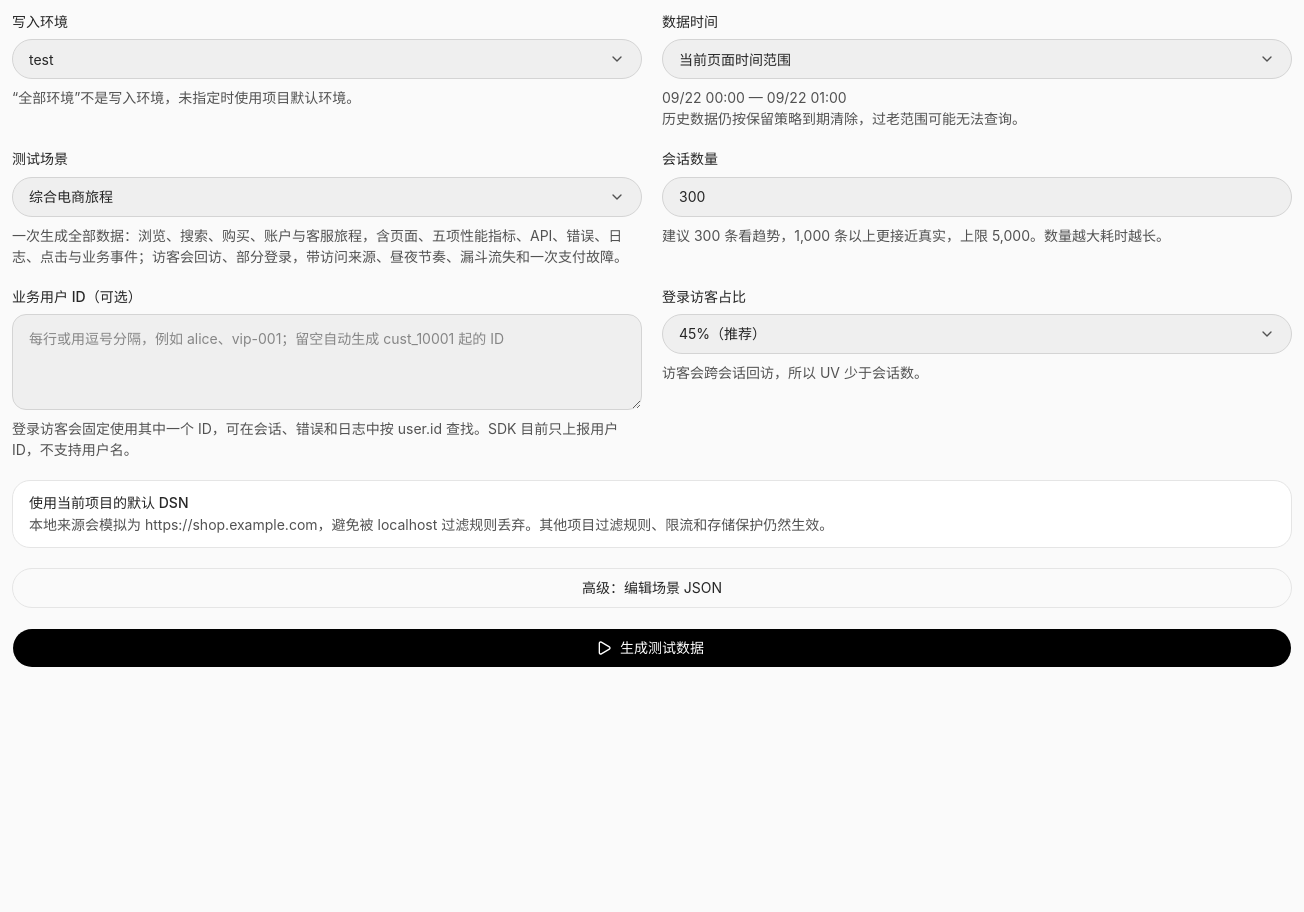
development generator › shows the real failure instead of hiding it behind a generic message
Click the button "生成测试数据". click: coordinates (652, 648)
box: 12,628 -> 1292,668
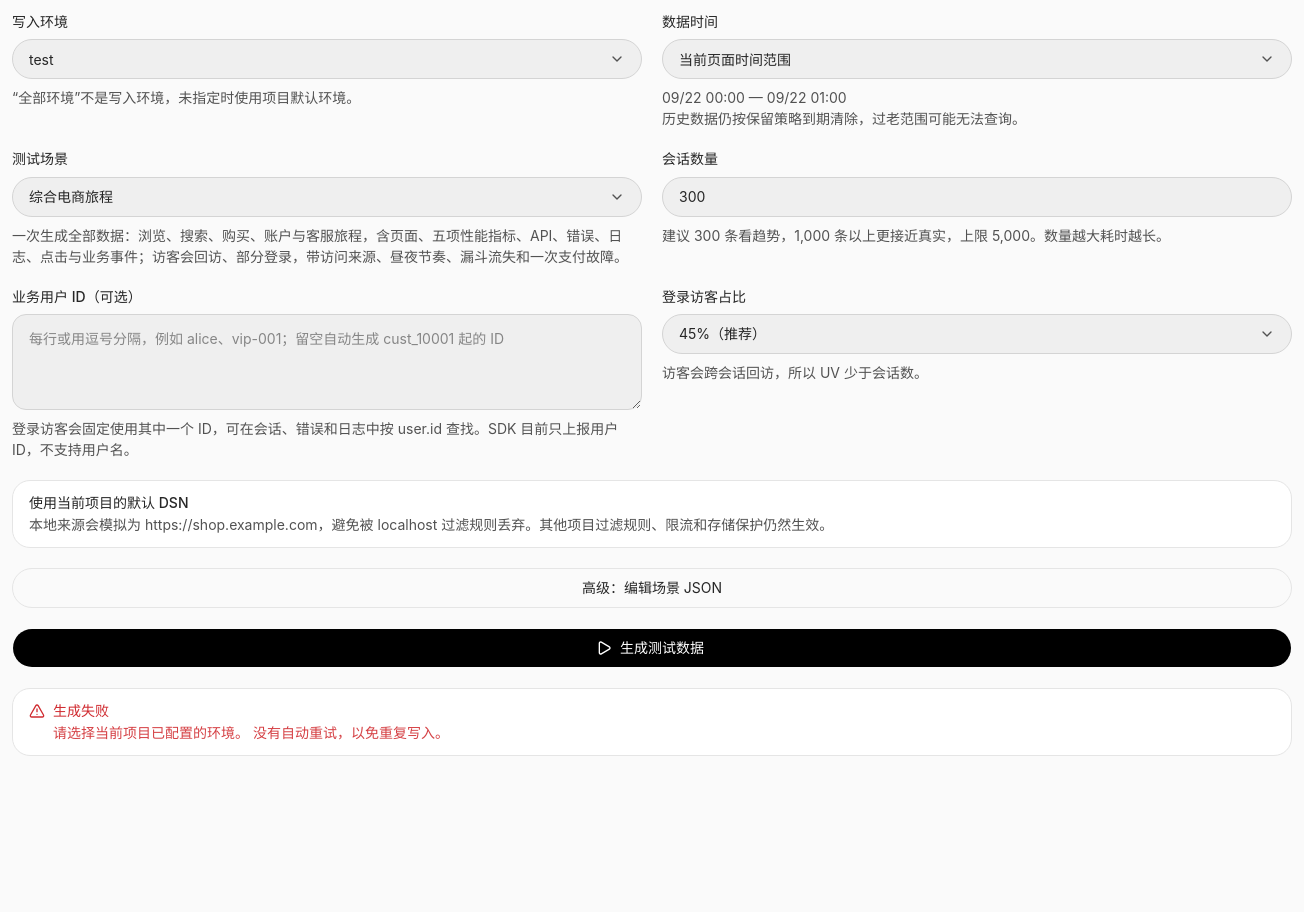
Check: the text "请选择当前项目已配置的环境。 没有自动重试，以免重复写入。" is shown, box 53,724 -> 449,741
